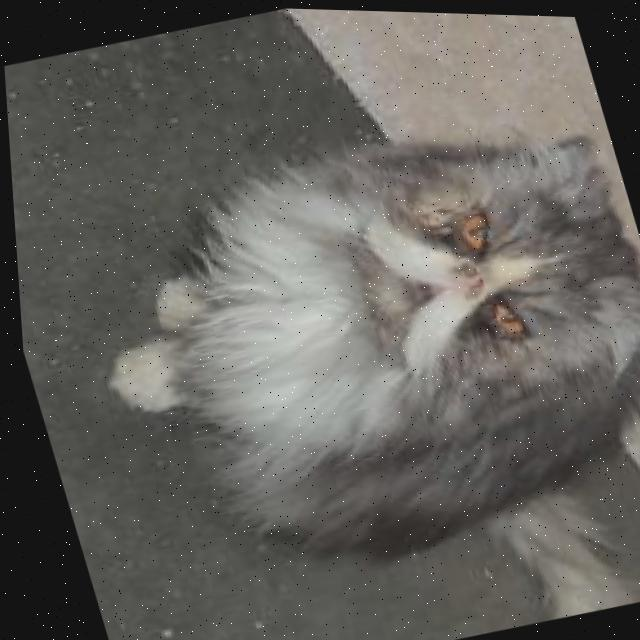Persian: (40, 74, 640, 640)
